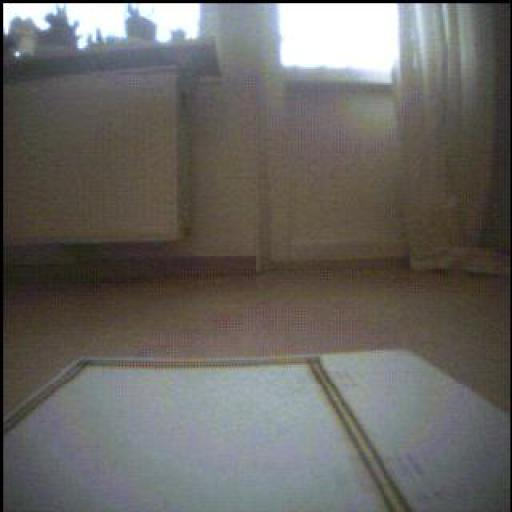Pad: (4, 353, 508, 512)
